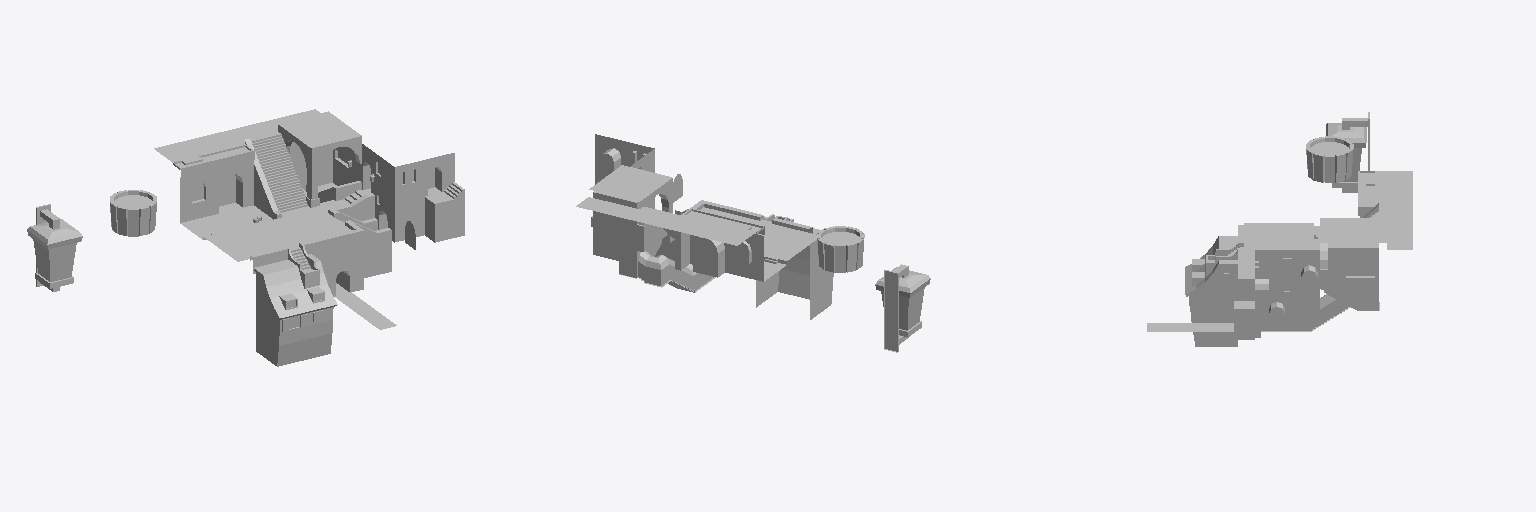
Rendered from City1.obj.
3 views of the same model, side by side, from view 1: azimuth 30°, elevation 25°; view 2: azimuth 150°, elevation 25°; view 3: azimuth 270°, elevation 25° (orthographic).
Parts seen in each view (by area): view 1: Pavement_Plane, Plane.002, Plane.001_Plane.010, Inn_Plane.003, Plane.000_Plane.008, LampMesh_Cube.001, Pot_Circle; view 2: Plane.002, Pavement_Plane, Plane.000_Plane.008, LampMesh_Cube.001, Plane.001_Plane.010, Pot_Circle, Inn_Plane.003; view 3: Plane.002, Pavement_Plane, Inn_Plane.003, Plane.001_Plane.010, Pot_Circle, LampMesh_Cube.001, Plane.000_Plane.008.
Boxes of the visible parts, box(x1,y1,x2,y2) form: Pavement_Plane: box(154, 109, 464, 329); Plane.002: box(245, 111, 415, 296); Plane.001_Plane.010: box(254, 254, 337, 366); Inn_Plane.003: box(362, 144, 454, 242); Plane.000_Plane.008: box(173, 145, 254, 222); LampMesh_Cube.001: box(27, 204, 82, 291); Pot_Circle: box(110, 190, 156, 236); Plane.002: box(589, 165, 812, 291); Pavement_Plane: box(576, 197, 816, 292); Plane.000_Plane.008: box(683, 208, 764, 281); LampMesh_Cube.001: box(875, 264, 930, 352); Plane.001_Plane.010: box(756, 216, 833, 319); Pot_Circle: box(817, 226, 864, 272); Inn_Plane.003: box(595, 134, 654, 208); Plane.002: box(1206, 203, 1386, 337); Pavement_Plane: box(1147, 171, 1412, 339); Inn_Plane.003: box(1255, 250, 1319, 330); Plane.001_Plane.010: box(1185, 236, 1237, 346); Pot_Circle: box(1306, 136, 1353, 182); LampMesh_Cube.001: box(1326, 112, 1369, 192); Plane.000_Plane.008: box(1358, 171, 1374, 217).
Size of the model in its own units: 21.11 by 8.12 by 13.1.